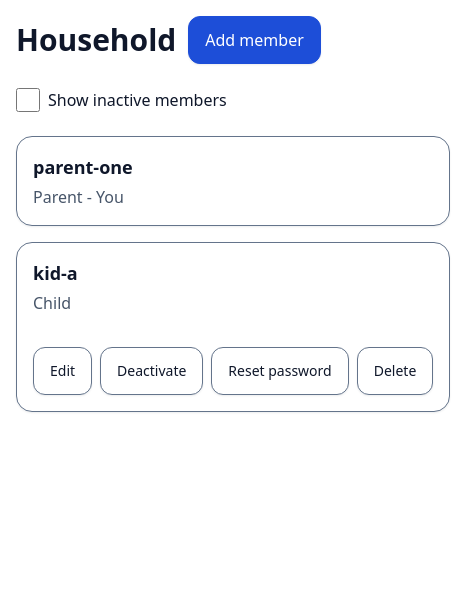
Test case: loading the directory › the inactive toggle widens the list and labels the inactive one
Expected: the heading "kid-a" is shown, [33,261,78,285]
Click the checkbox labelled "Show inactive members": x=28, y=100 [16,88,40,112]
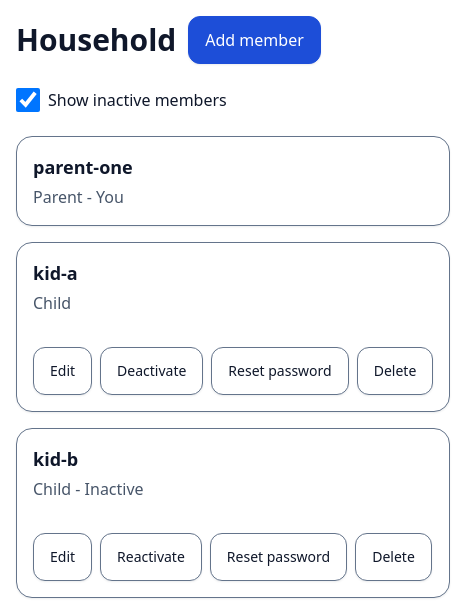
Result: the heading "kid-b" is shown at [33,447,78,471]
Result: the text "Child - Inactive" is shown at [33,478,144,500]
